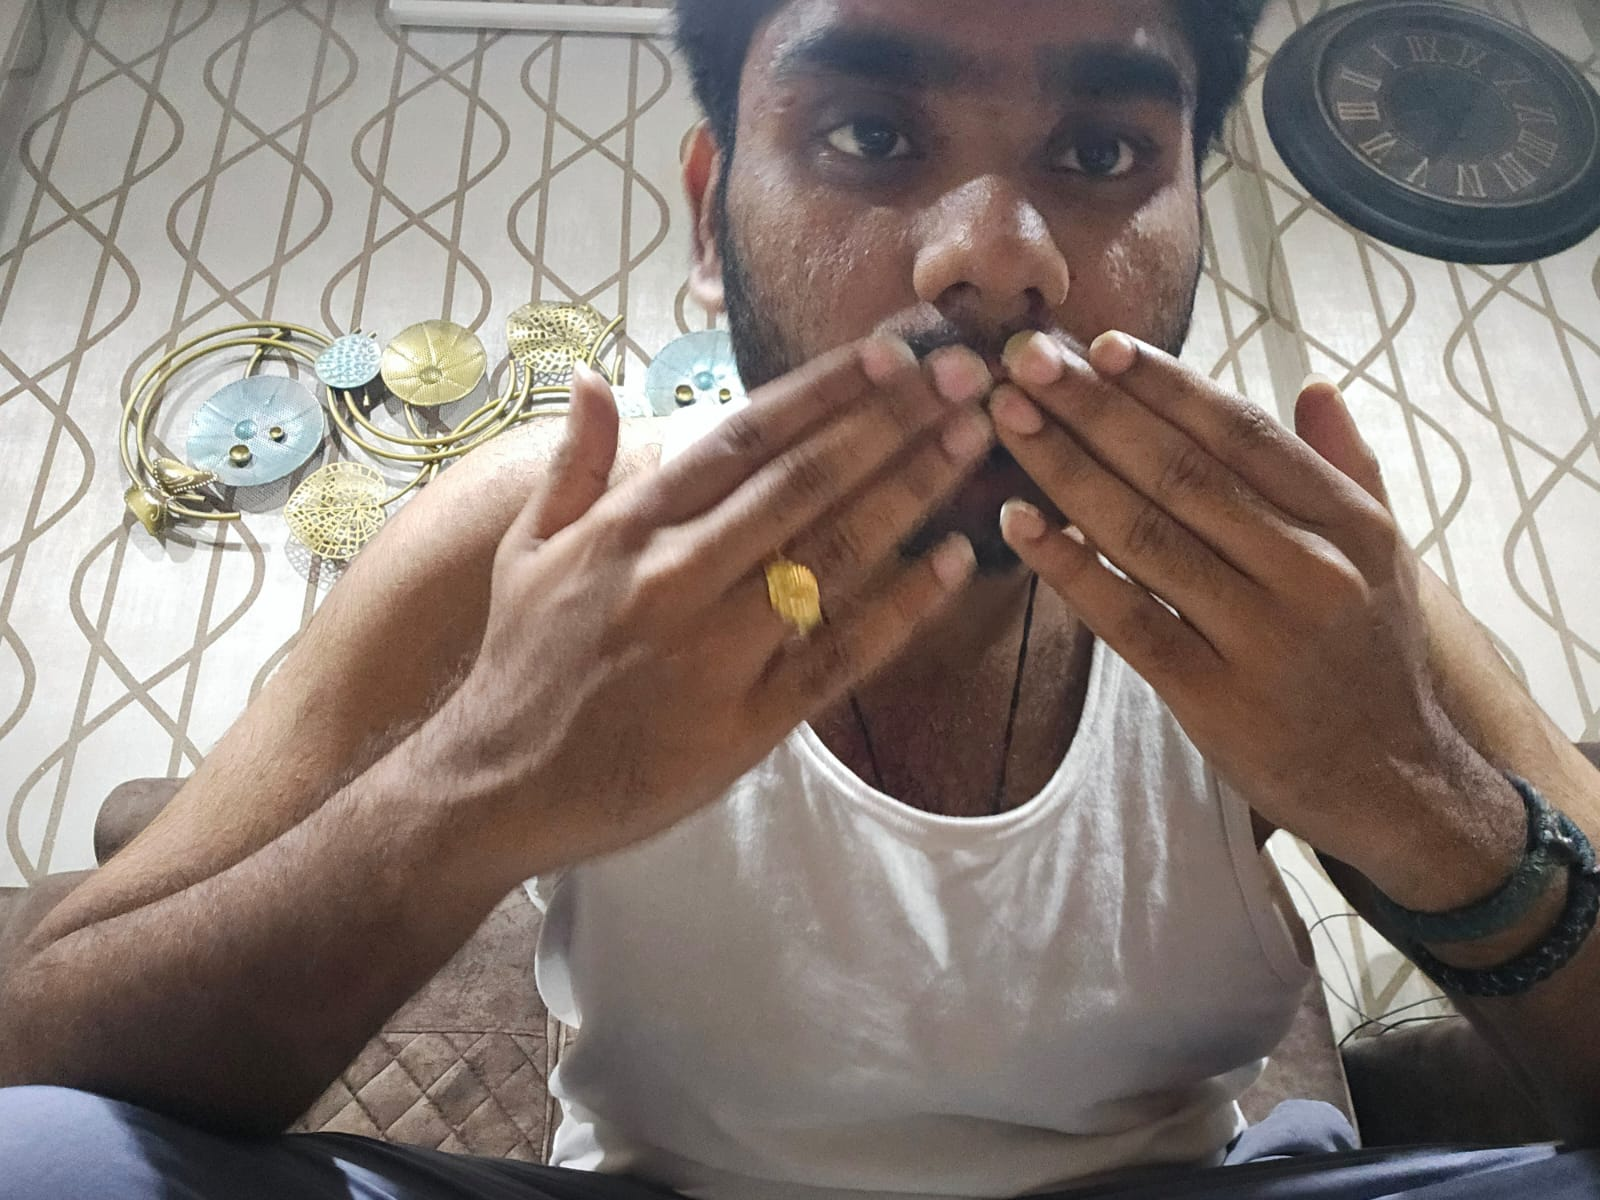thank you: (484, 332, 1427, 834)
